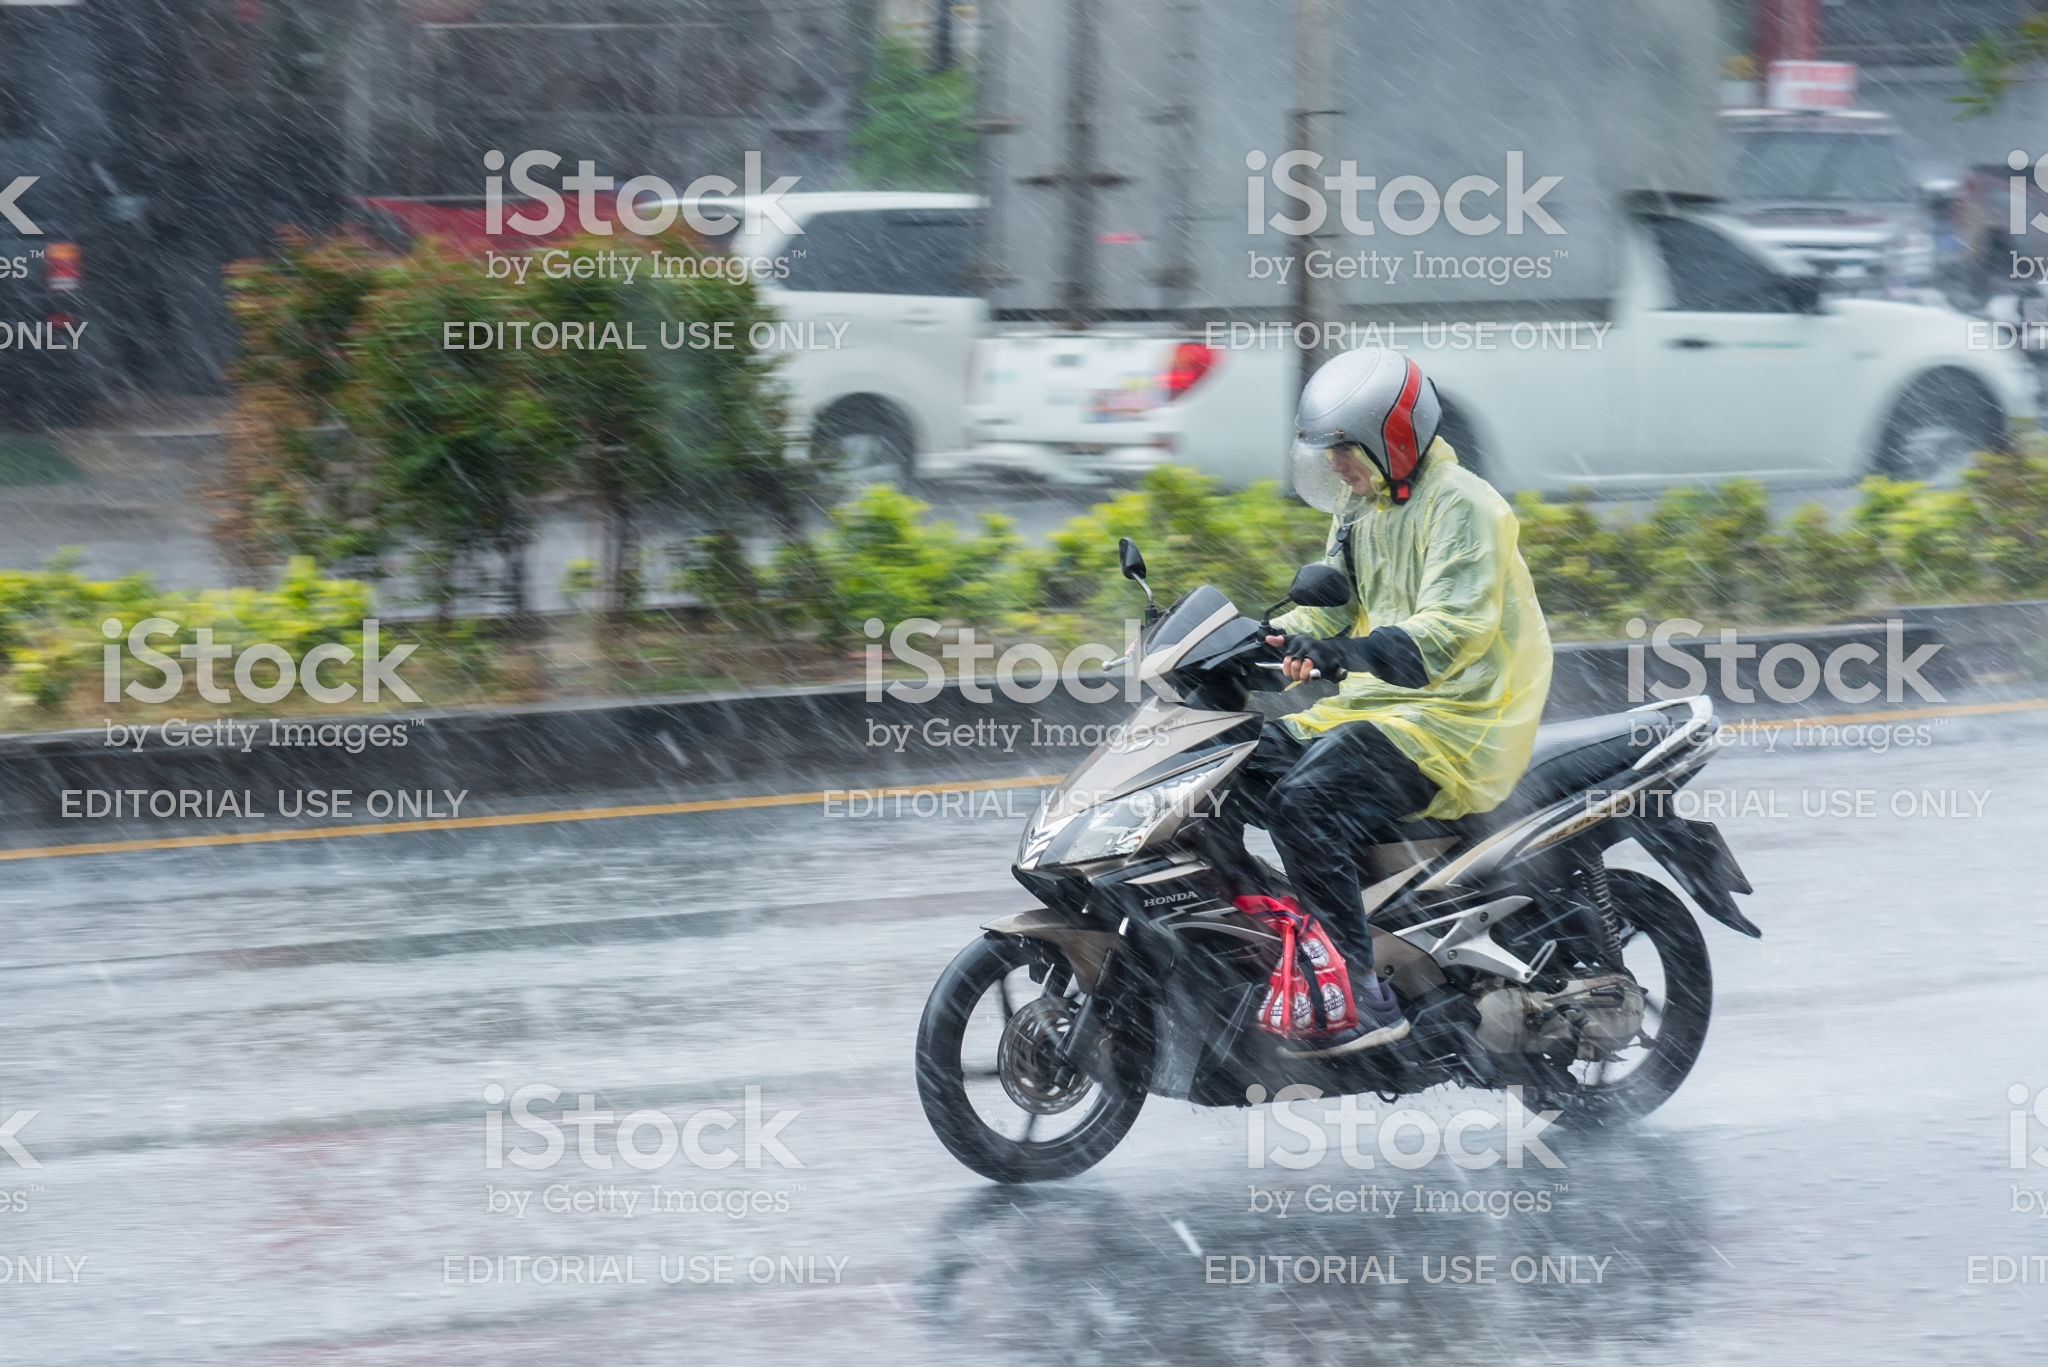helmet: (1279, 362, 1465, 484)
